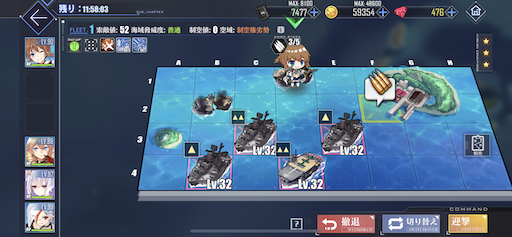lv1: (318, 107, 364, 154), (183, 142, 233, 185)
lv2: (275, 142, 321, 190), (232, 111, 276, 154)
